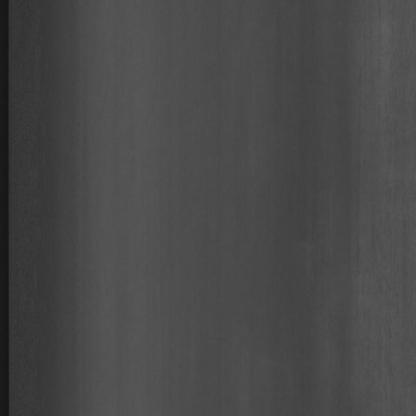silk_spot: (342, 104, 413, 356)
